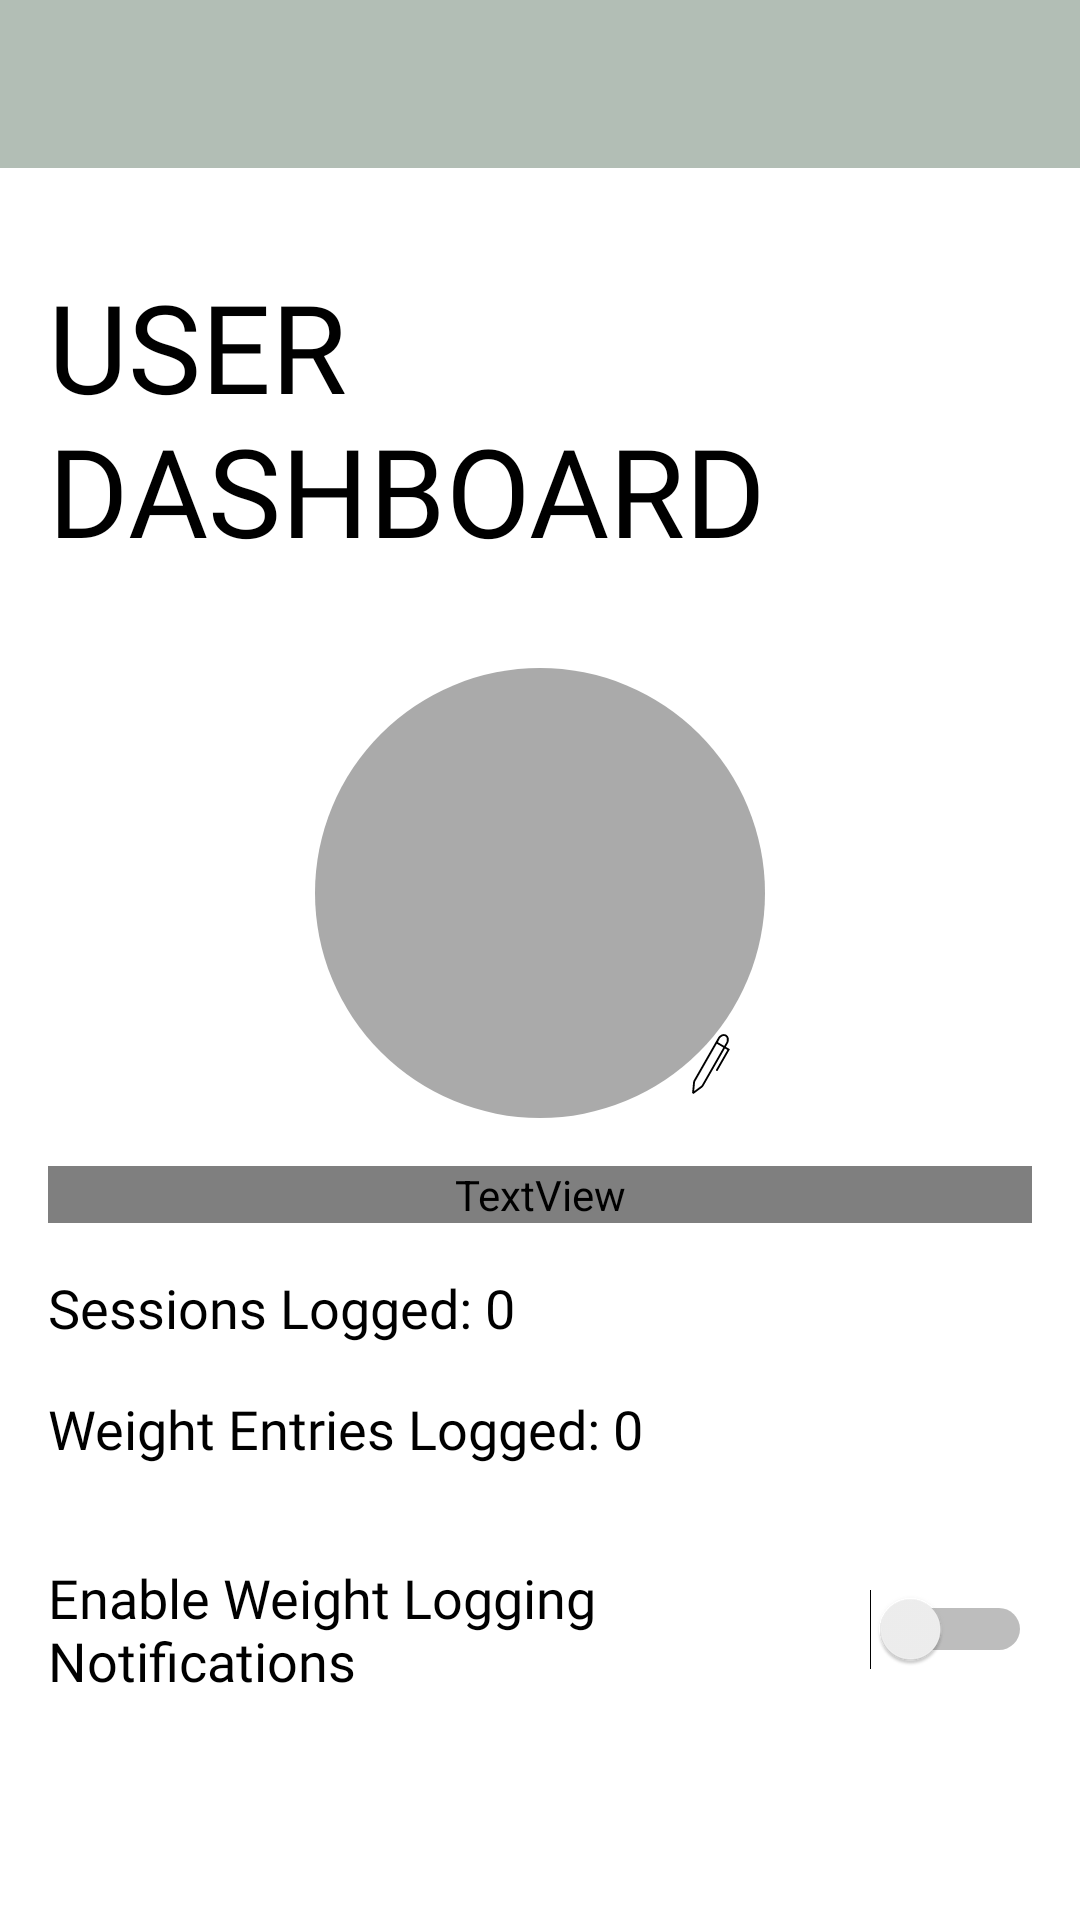

Where to tap for icons on this 1080 × 1920 app screen, as (x=x, y=y):
Edit Profile Picture: (x=694, y=1052)
